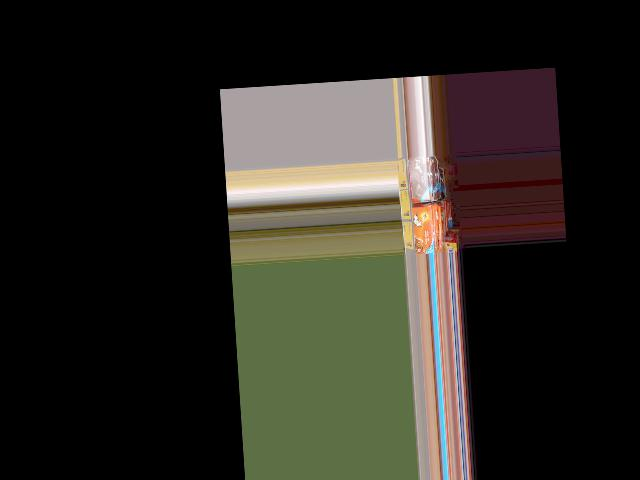chocolate: (403, 155, 432, 199)
